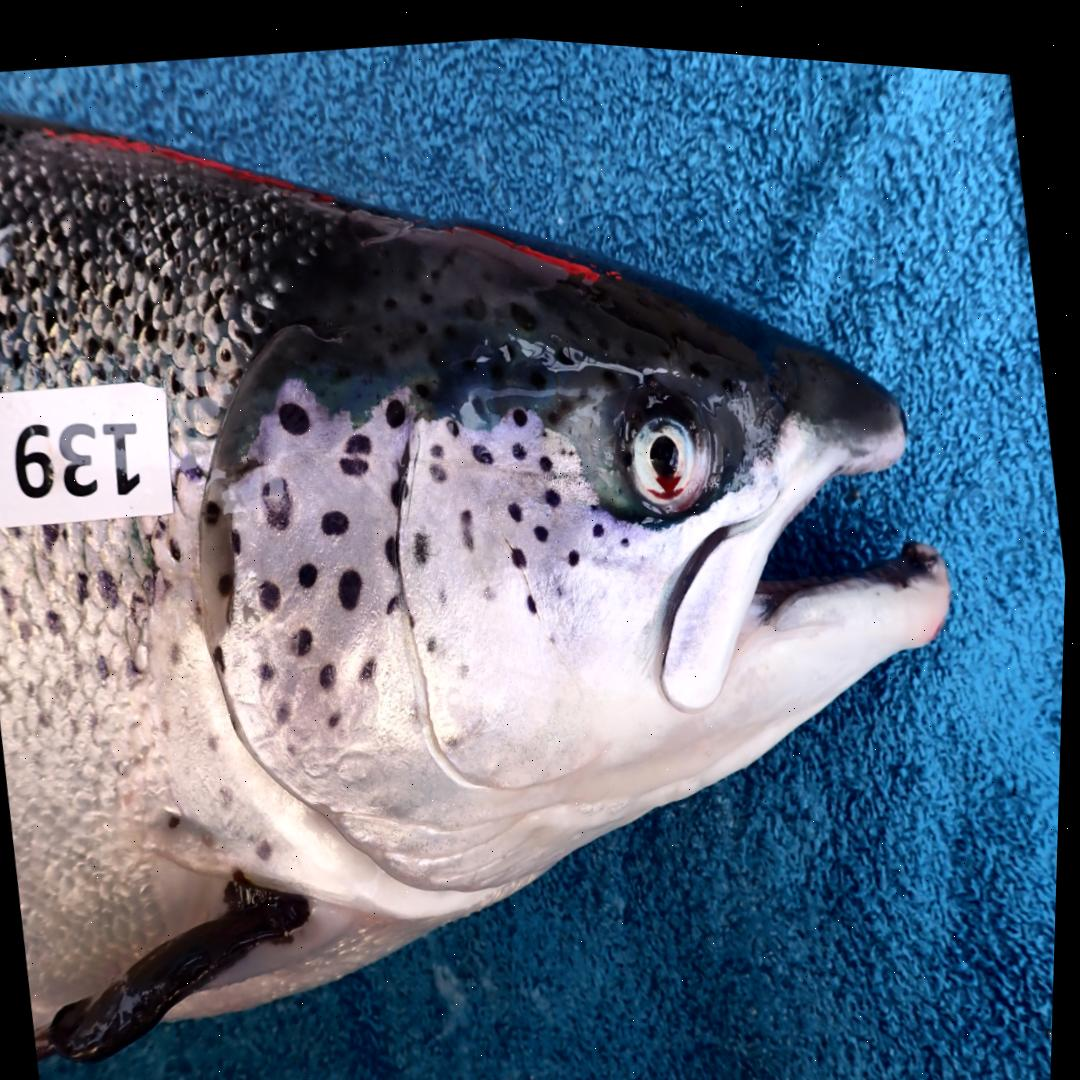spot: (263, 472, 294, 526), (341, 425, 373, 471), (279, 396, 311, 430), (340, 563, 364, 604), (260, 575, 284, 607), (322, 504, 351, 530), (386, 390, 408, 420), (291, 621, 314, 648), (346, 427, 373, 449), (462, 502, 476, 542), (415, 526, 431, 558), (322, 656, 339, 686), (359, 650, 377, 678), (300, 558, 320, 581), (474, 435, 494, 457), (397, 435, 409, 470), (259, 655, 278, 677), (385, 528, 397, 561), (206, 494, 221, 520), (431, 456, 449, 476), (220, 570, 237, 591), (513, 538, 530, 558), (216, 640, 228, 668), (547, 478, 563, 498), (279, 696, 294, 717), (510, 492, 524, 512), (447, 411, 461, 429), (536, 516, 550, 533), (514, 400, 528, 417), (514, 435, 528, 452), (234, 524, 243, 550), (569, 539, 582, 556), (388, 588, 400, 606), (431, 436, 445, 450), (529, 586, 539, 605), (428, 628, 439, 645), (541, 447, 554, 461), (486, 576, 498, 591), (401, 472, 409, 493), (391, 474, 398, 498), (412, 693, 420, 714), (447, 726, 461, 738), (332, 704, 343, 719), (461, 654, 471, 669), (594, 514, 605, 526), (558, 574, 565, 586), (442, 581, 448, 595), (553, 626, 560, 637), (412, 605, 417, 620), (622, 525, 630, 534)
